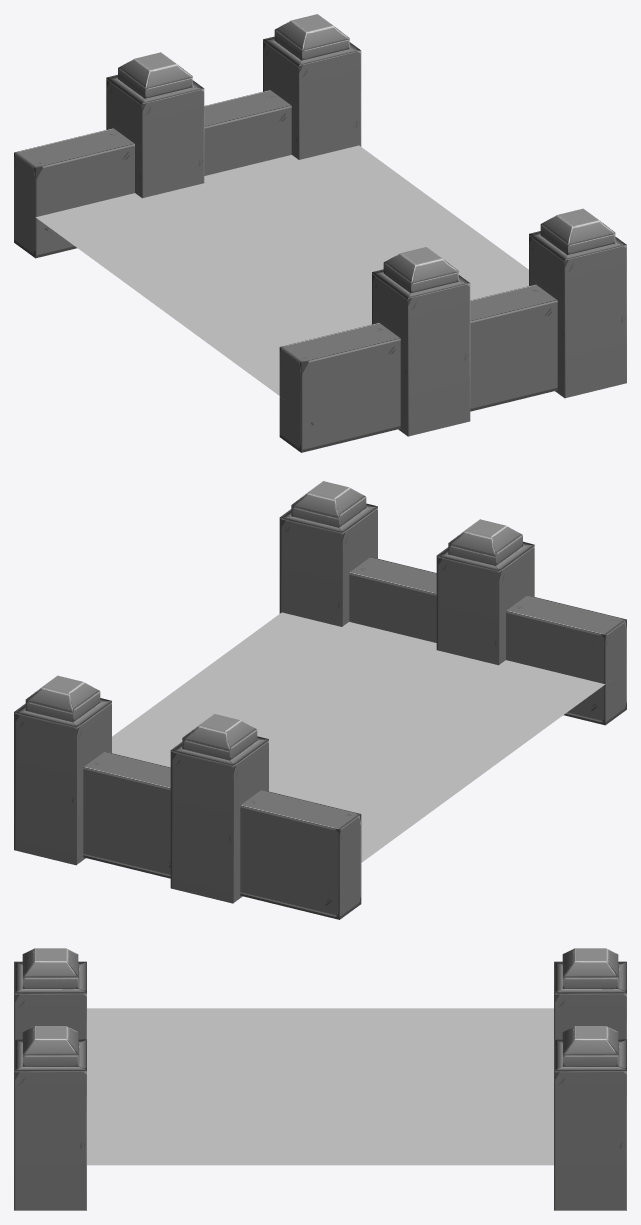
Rendered from Bridge.fbx.
3 renders of one model, top to bottom at view 1: azimuth 30°, elevation 25°; view 2: azimuth 150°, elevation 25°; view 3: azimuth 270°, elevation 25°, orthographic.
Parts seen in each view (by area): view 1: pCube1, pCube4, pCube2, pCube5, pCube8, pCube7, pCube6, pCube3, pCube9; view 2: pCube1, pCube7, pCube8, pCube6, pCube2, pCube4, pCube5, pCube9, pCube3; view 3: pCube1, pCube2, pCube8, pCube4, pCube7.
Boxes of the visible parts, x1,y1,x2,y2 form: pCube1: [36, 145, 528, 395]; pCube4: [372, 247, 470, 436]; pCube2: [529, 208, 626, 398]; pCube5: [279, 323, 400, 452]; pCube8: [263, 14, 361, 159]; pCube7: [106, 52, 204, 198]; pCube6: [14, 128, 134, 258]; pCube3: [470, 284, 557, 411]; pCube9: [204, 90, 291, 175]; pCube1: [112, 612, 604, 862]; pCube7: [170, 714, 268, 903]; pCube8: [14, 675, 111, 865]; pCube6: [240, 790, 361, 919]; pCube2: [279, 481, 377, 626]; pCube4: [436, 519, 534, 665]; pCube5: [506, 595, 626, 725]; pCube9: [83, 751, 170, 878]; pCube3: [349, 557, 436, 642]; pCube1: [87, 1008, 553, 1165]; pCube2: [14, 1026, 86, 1210]; pCube8: [554, 1026, 626, 1210]; pCube4: [14, 948, 86, 1039]; pCube7: [554, 948, 626, 1039].
Bounding box in the file's own units: 5.12 × 2.46 × 8.4.
